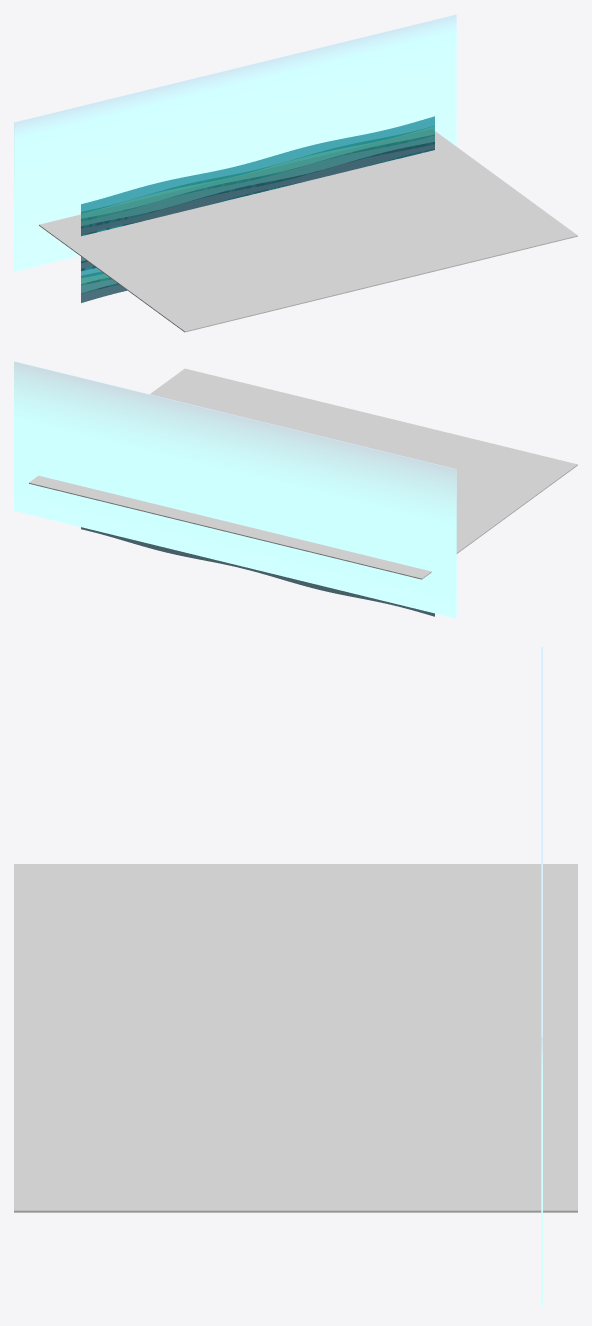
Rendered from lagoonwaves.glb.
3 views of the same model, one above another, from view 1: azimuth 30°, elevation 25°; view 2: azimuth 150°, elevation 25°; view 3: azimuth 270°, elevation 25° (orthographic). The views are drawn at different scales.
Parts seen in each view (by area): view 1: Ground contact / transparent shadow receiver.017, Sky gradient / editable material.017, World / terrain and architecture.015; view 2: Sky gradient / editable material.017, Ground contact / transparent shadow receiver.017, World / terrain and architecture.015; view 3: Ground contact / transparent shadow receiver.017, Sky gradient / editable material.017.
Boxes of the visible parts, <box> form: Ground contact / transparent shadow receiver.017: <box>39,129,577,332</box>; Sky gradient / editable material.017: <box>14,14,456,271</box>; World / terrain and architecture.015: <box>81,116,434,302</box>; Sky gradient / editable material.017: <box>14,361,456,618</box>; Ground contact / transparent shadow receiver.017: <box>29,368,577,579</box>; World / terrain and architecture.015: <box>81,527,434,616</box>; Ground contact / transparent shadow receiver.017: <box>14,864,577,1212</box>; Sky gradient / editable material.017: <box>541,647,542,1306</box>.
Size of the model in its own units: 180 by 68.5 by 110.
